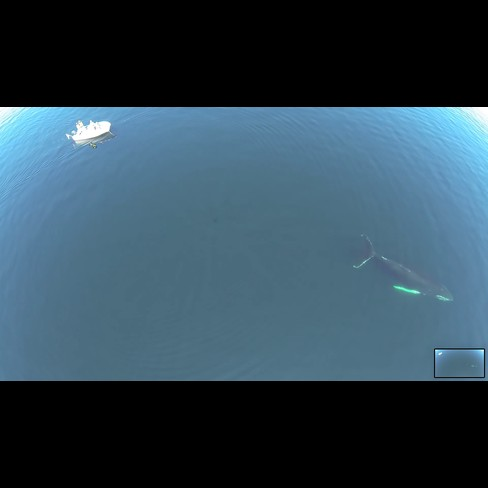boat: (60, 112, 118, 154)
hump: (343, 228, 458, 311)
